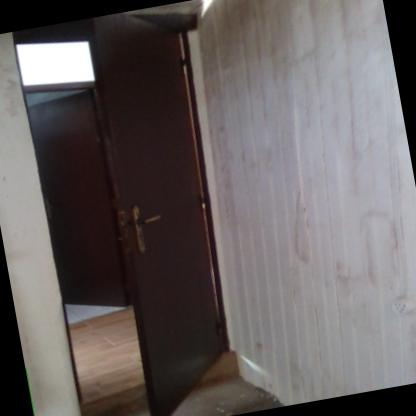semi: (3, 2, 262, 415)
